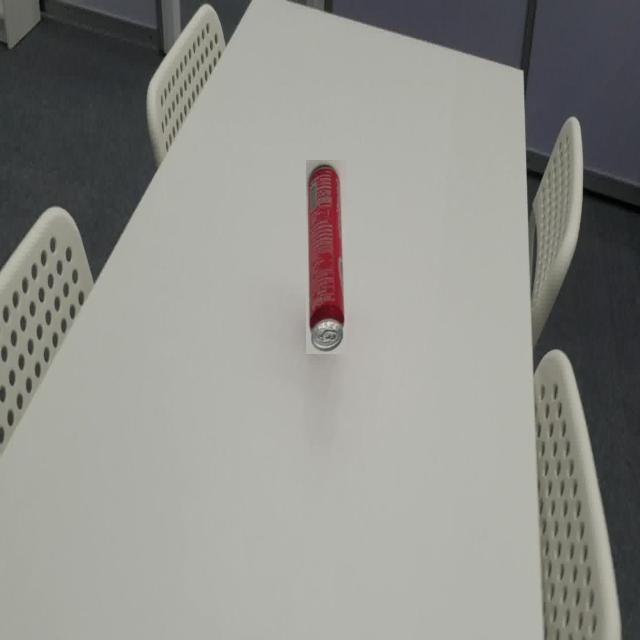coca-cola: (306, 160, 347, 354)
